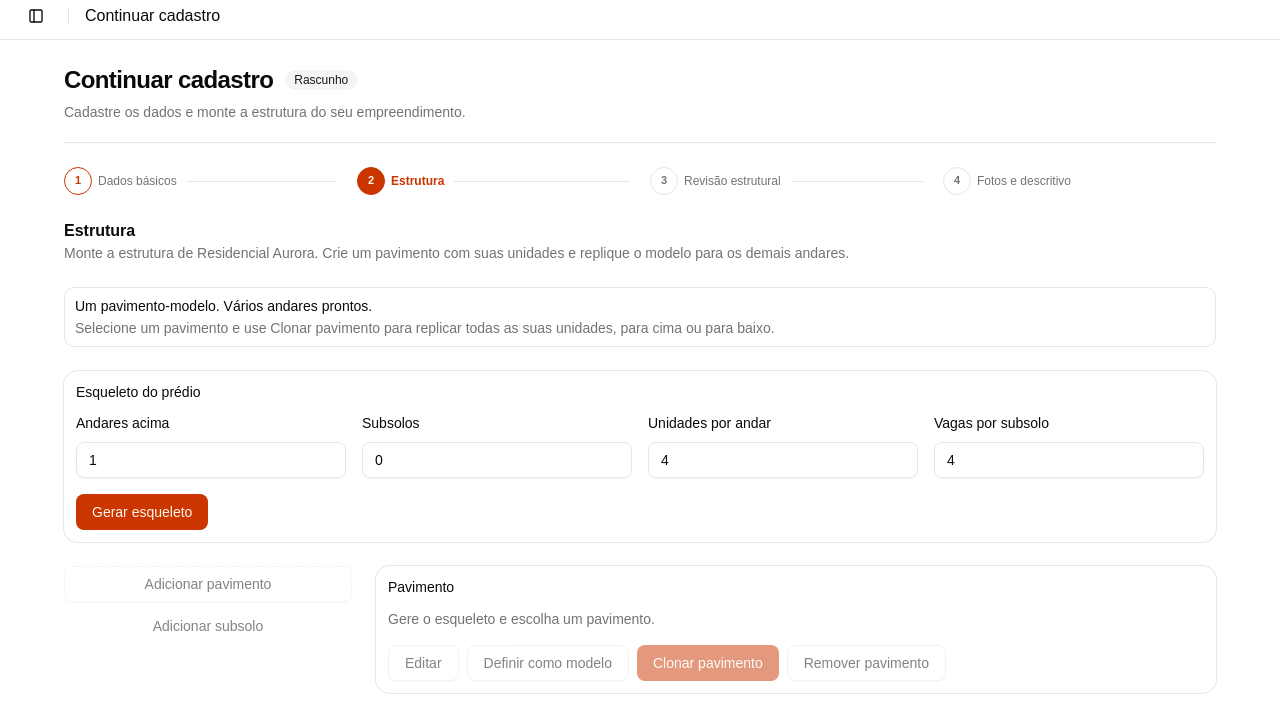
Test: BuildingWizardPage › saves the unit grid of the generated tower
The width and height of the screenshot is (1280, 712).
Expected: the heading "Estrutura" is shown, left=64, top=222, right=135, bottom=239
Click the button "Gerar esqueleto".
click(142, 512)  # box left=76, top=494, right=208, bottom=530
(page scrolled)
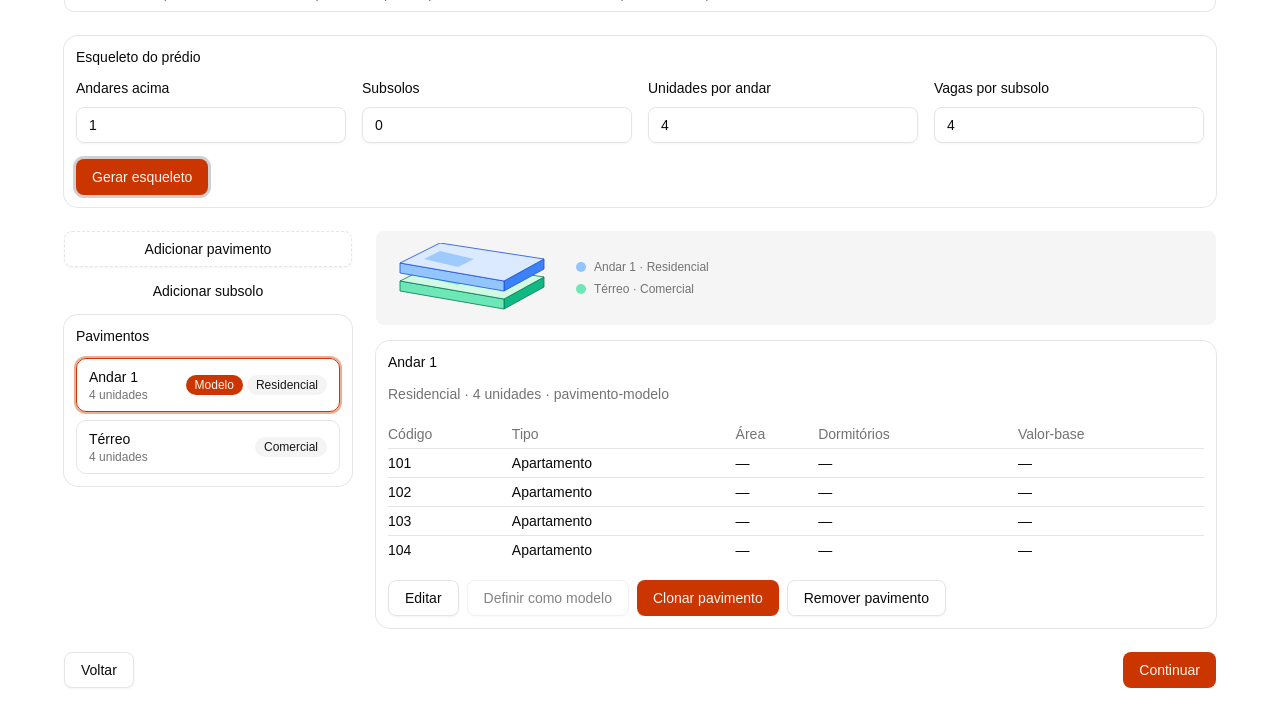
Click the button with aria-label "Salvar e continuar".
click(1170, 670)  # box left=1123, top=652, right=1216, bottom=688
(page scrolled)
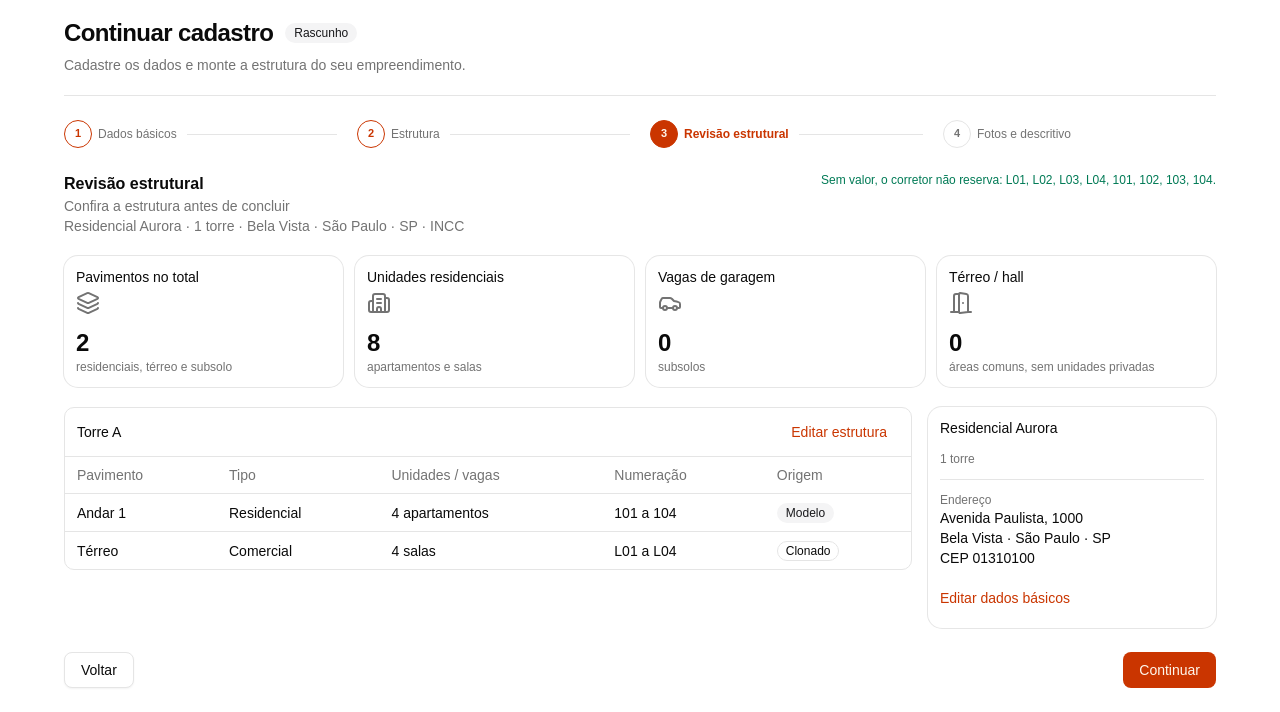
Expected: the heading "Revisão estrutural" is shown, left=64, top=175, right=204, bottom=192
